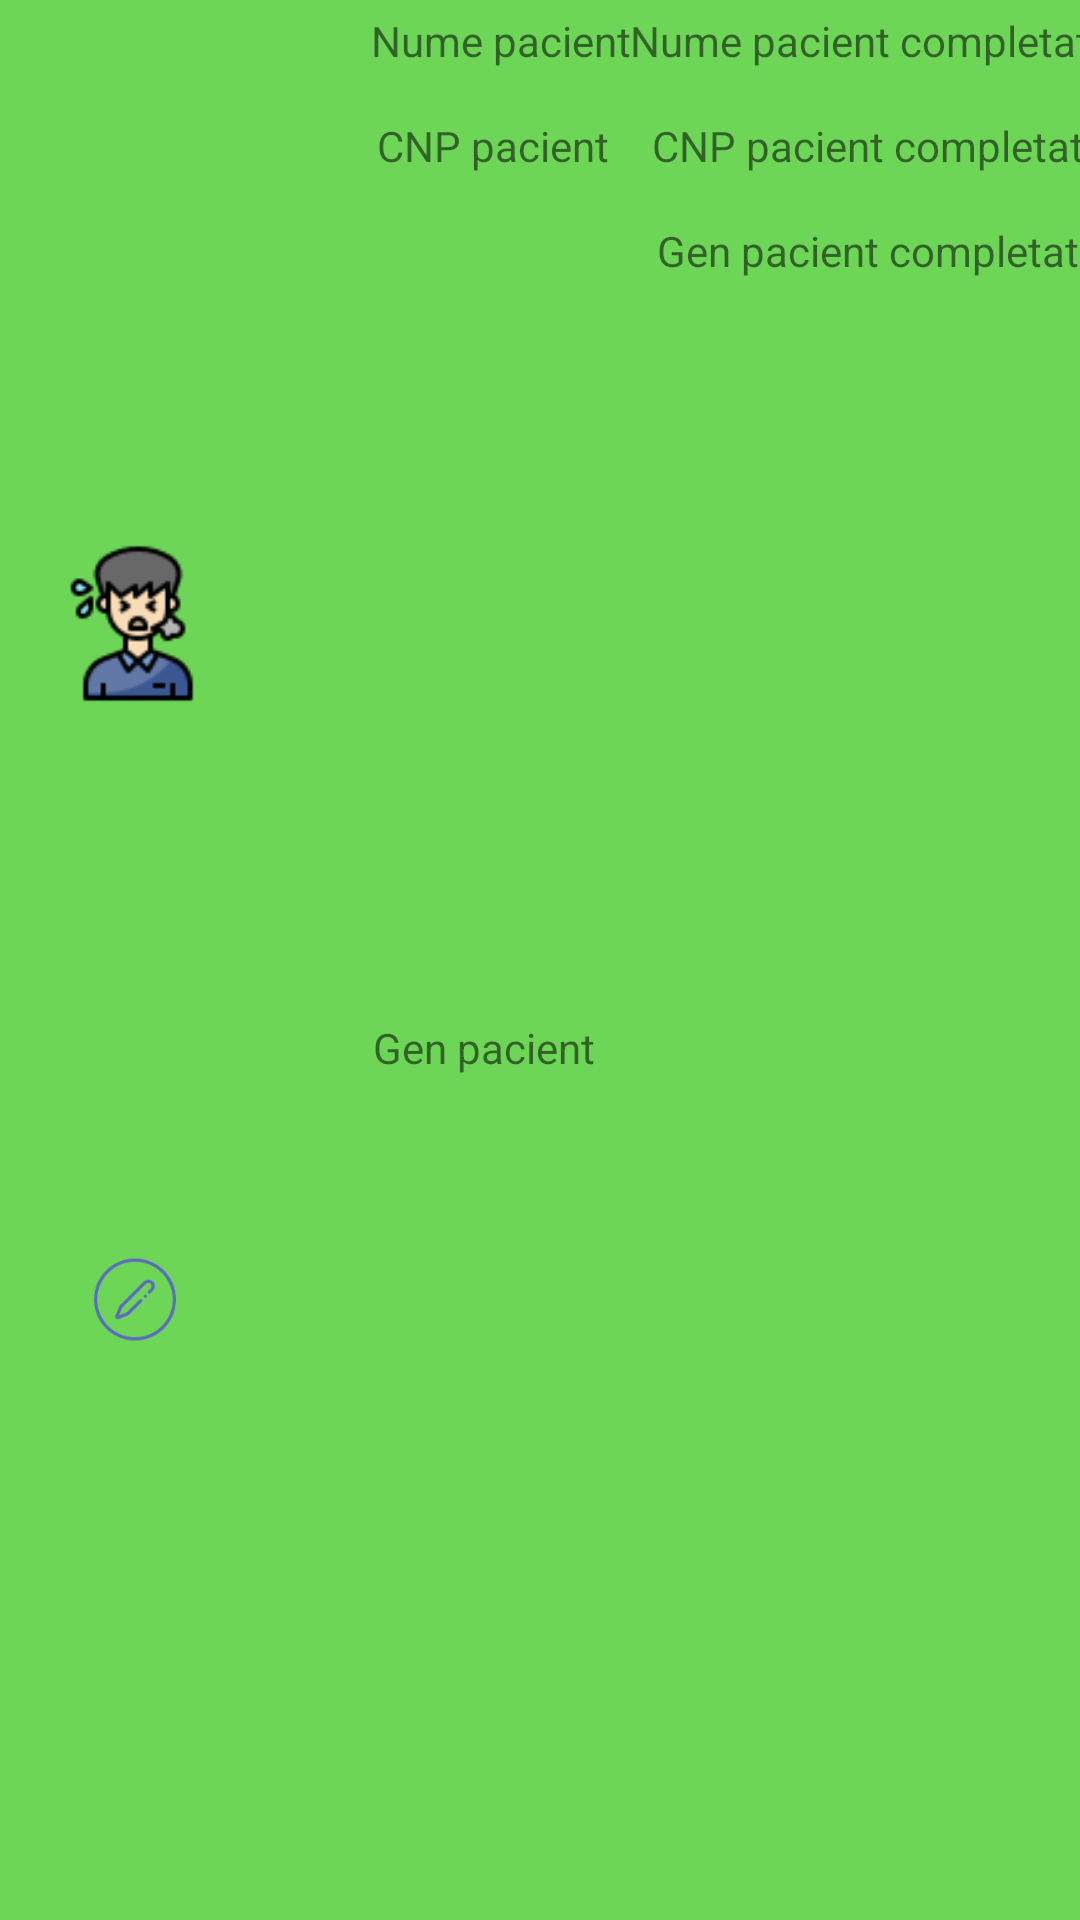

Named icons in this screenshot (1080*1920) and their centers, [x,y]:
edit: [135,1299]
Pacienti: [132,623]
